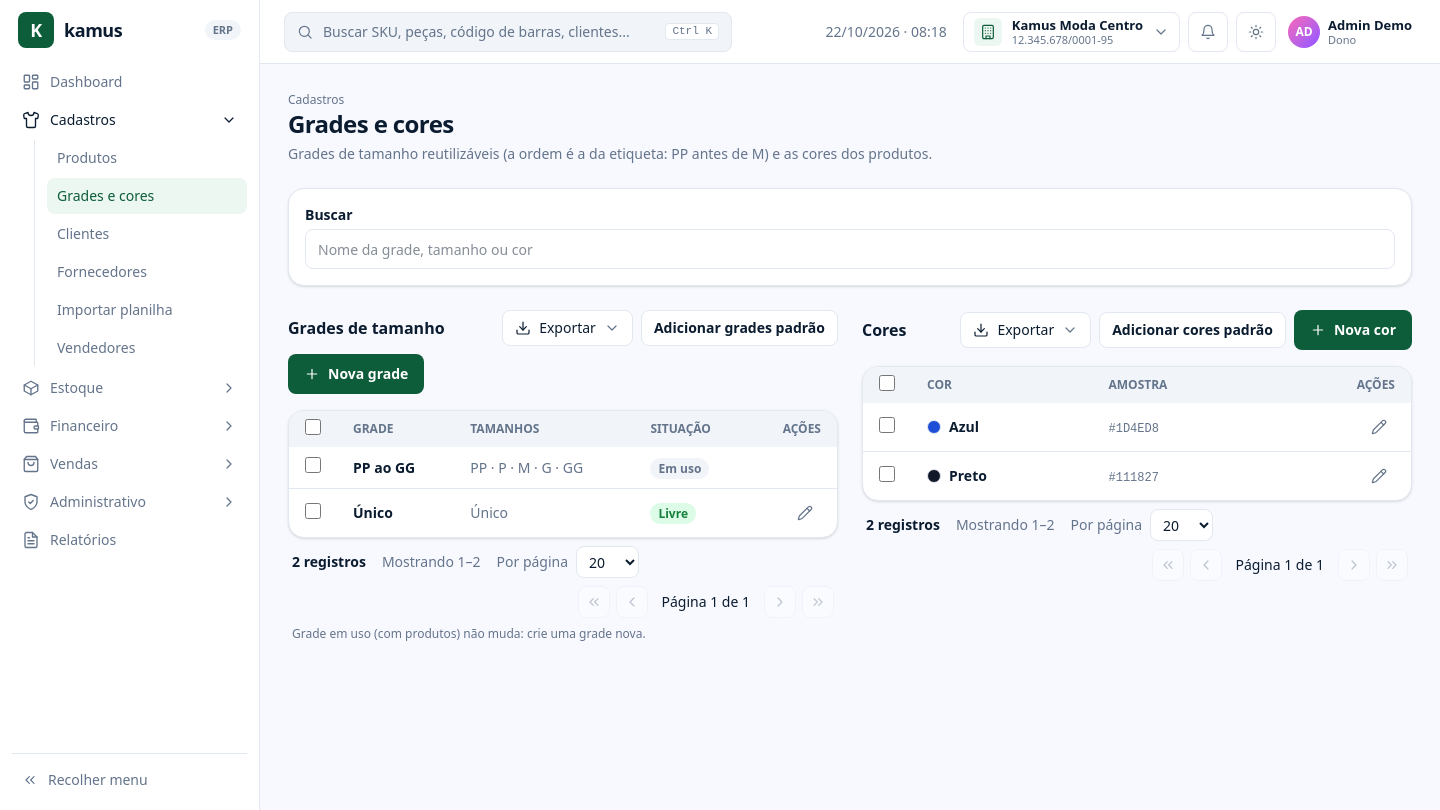
it: Cadastros → Grades e cores › busca filtra grades e cores na tela; seleção exporta só as marcadas
The image size is (1440, 810).
Expected: the text "PP ao GG" is shown, [353,458,415,476]
Type "pret" into the field labelled "Buscar" at (850, 249), box [305,229,1395,269]
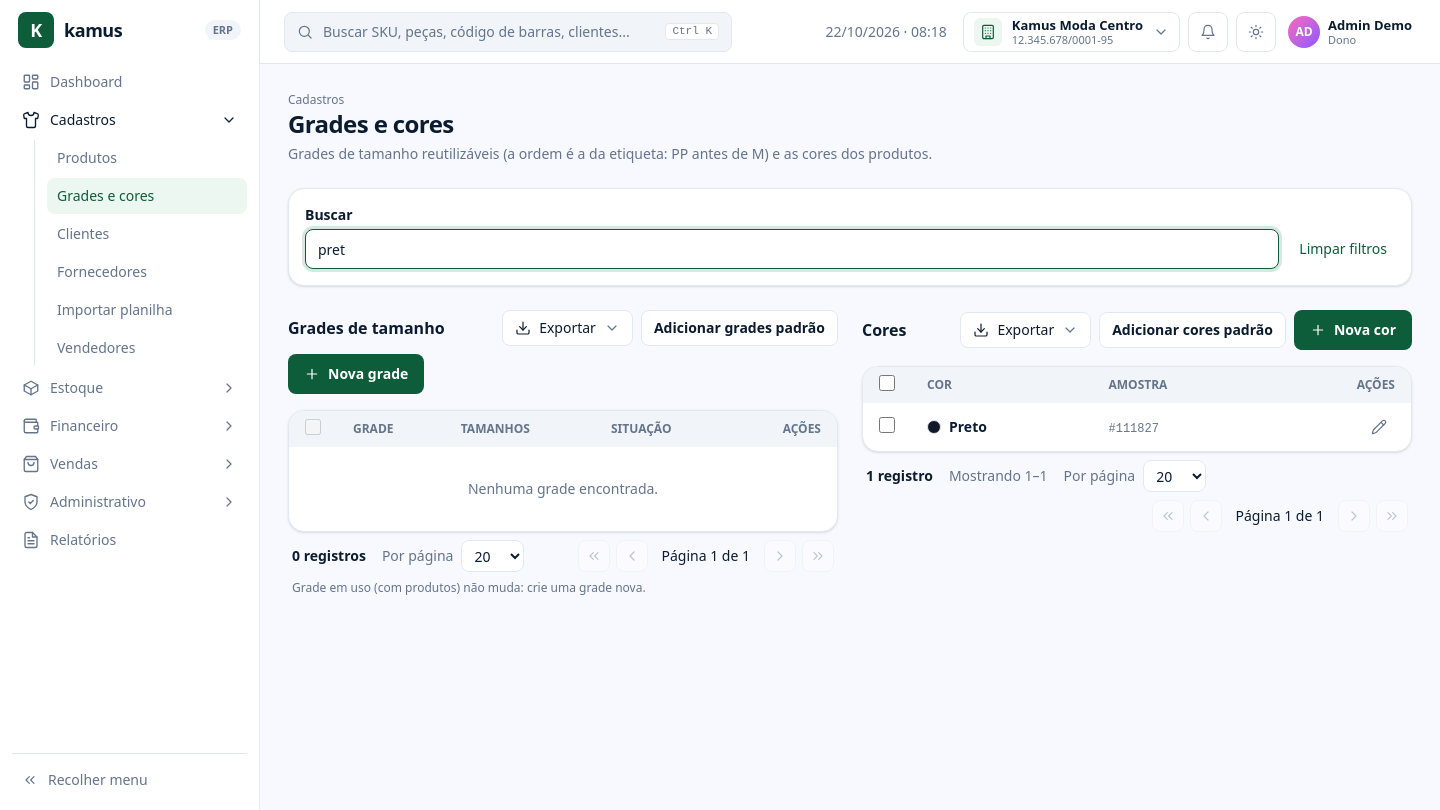
Expected: the text "Preto" is shown, [927,417,987,436]
Now the text "Azul" is gone
Now the text "Nenhuma grade encontrada." is shown, box [289,447,837,531]
Click the checkbox named "Selecionar Preto" at (887, 424), box [879,416,895,432]
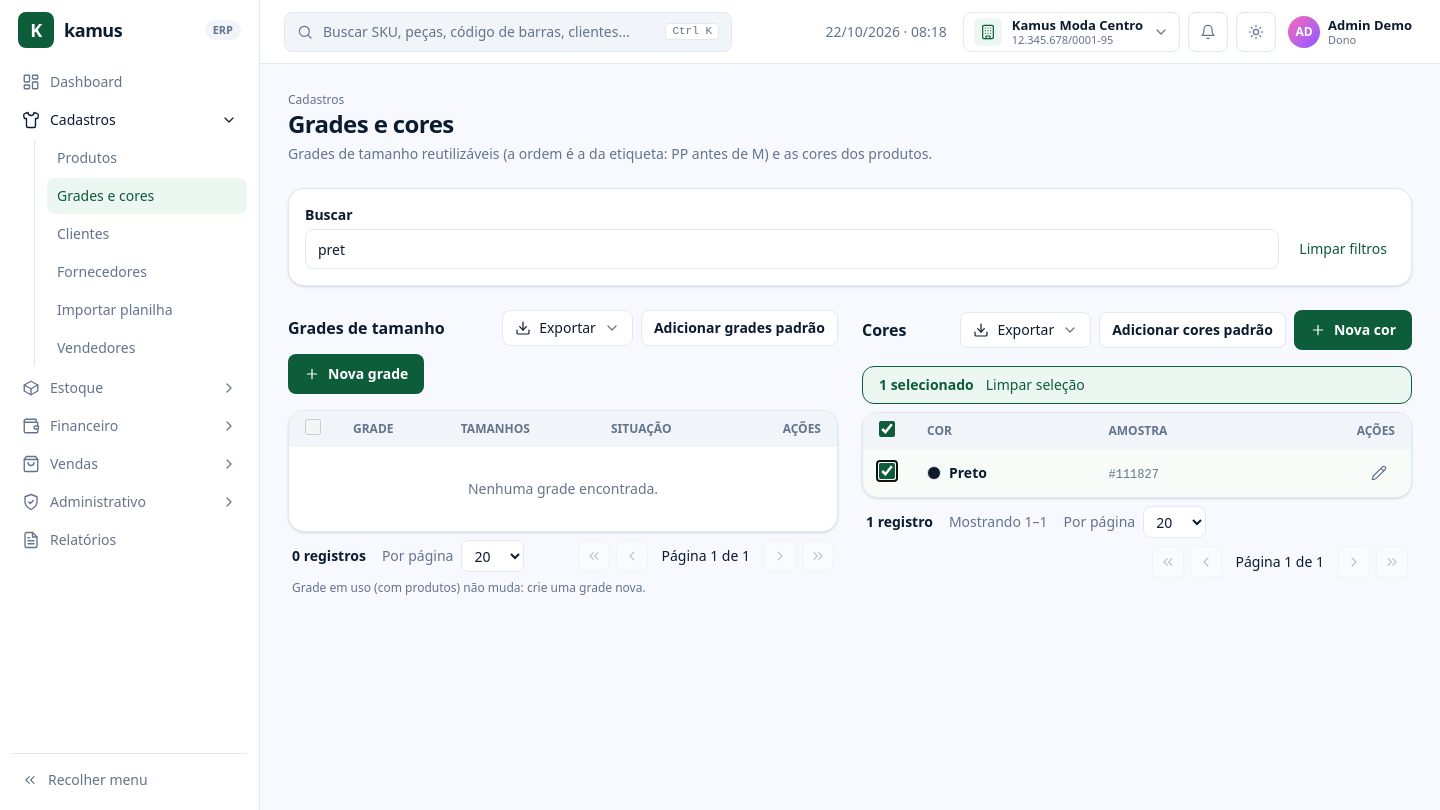
Click the 2nd button "Exportar" at (1026, 330), box [960,312,1091,348]
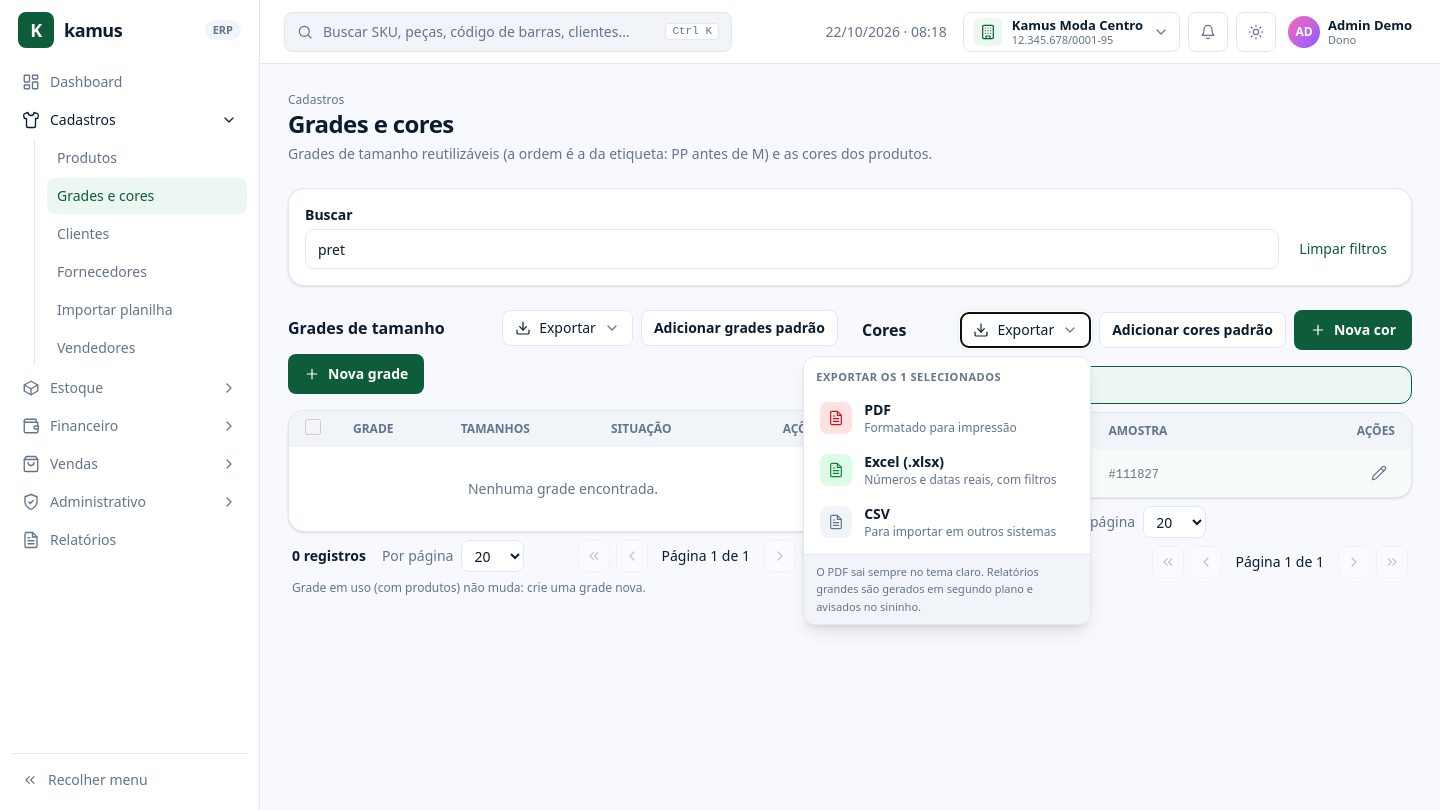
Click the menu item "CSV Para importar em outros sistemas" at (947, 522), box [810,496,1084,548]
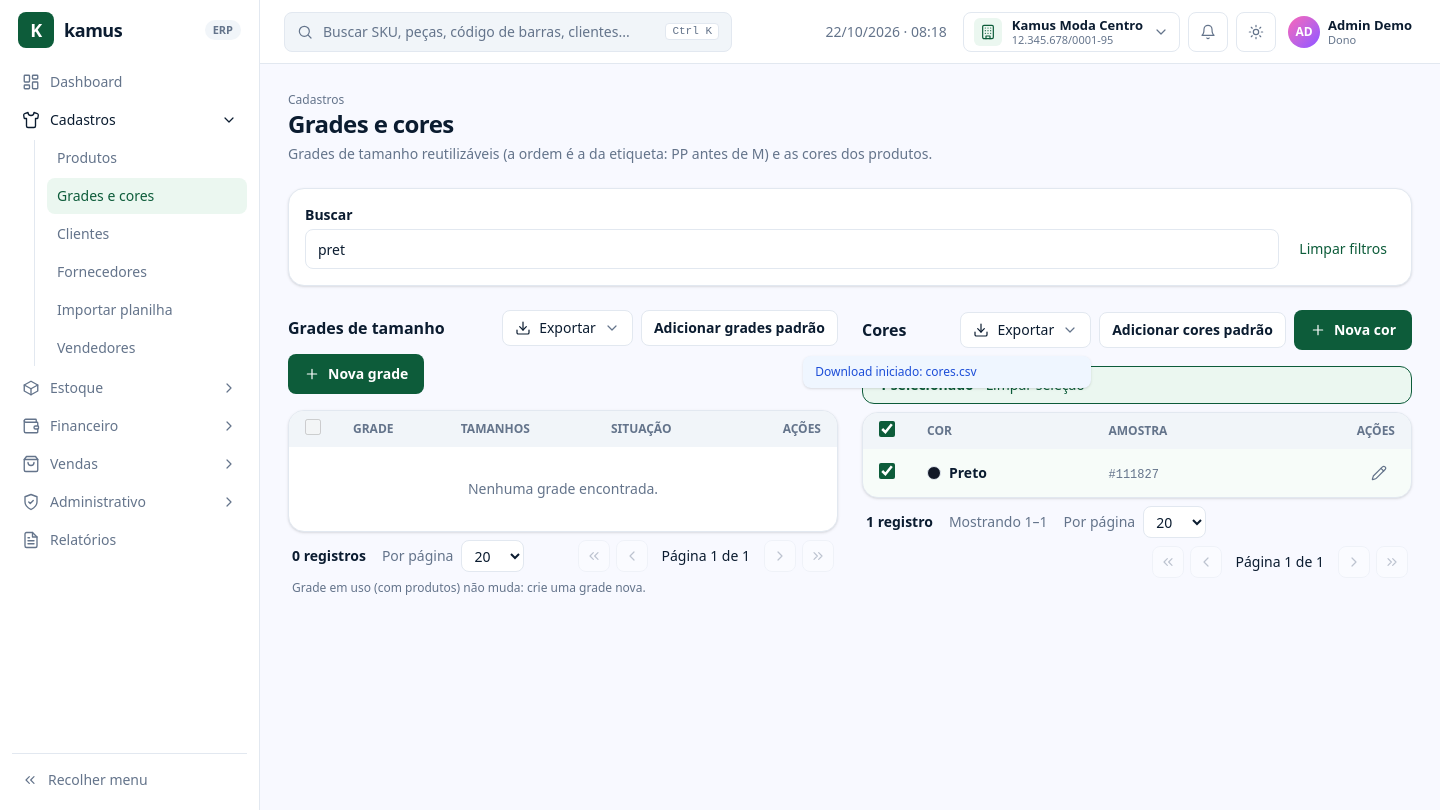
Click the button "Limpar filtros" at (1343, 249), box [1291,229,1395,269]
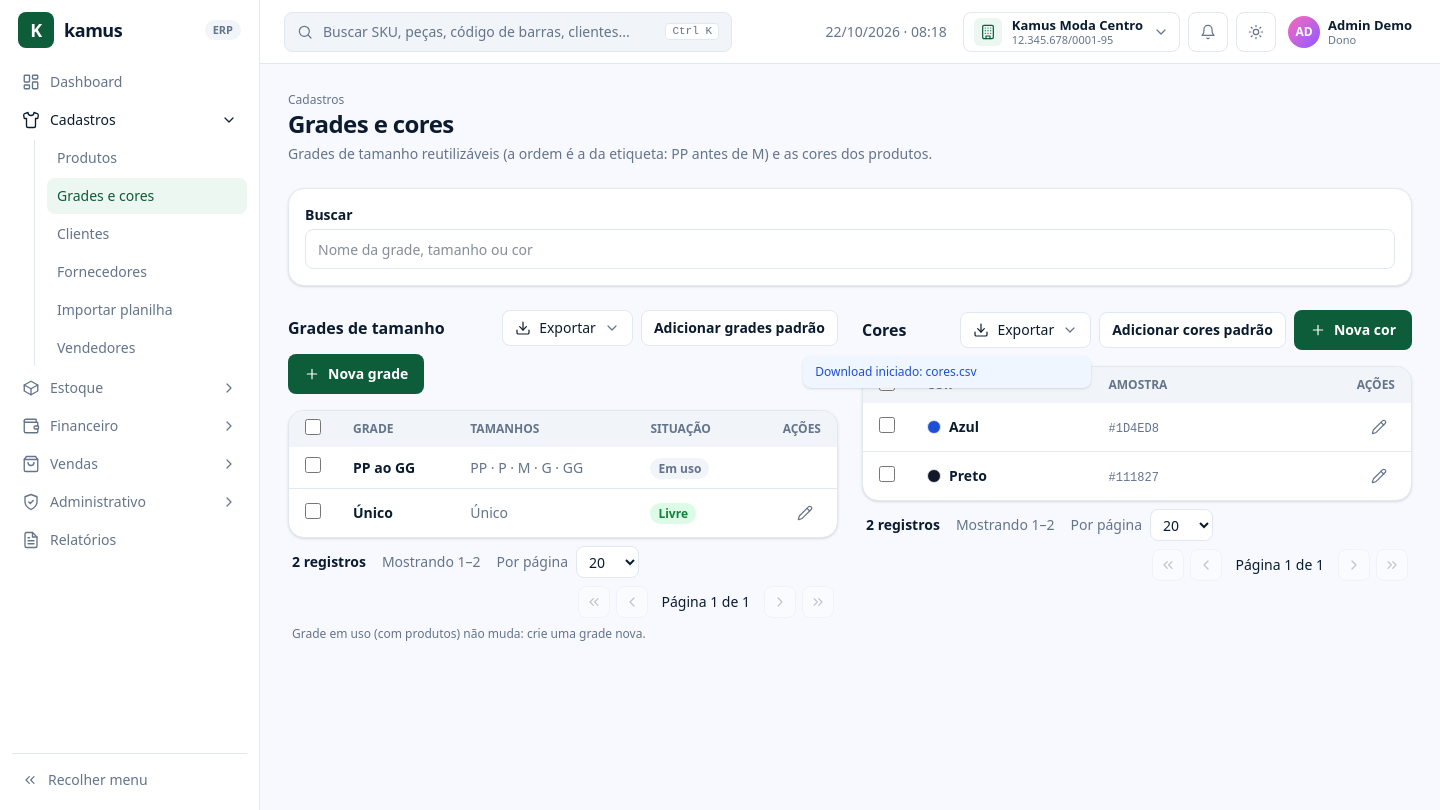
Now the text "Azul" is shown, box [927,417,979,436]
